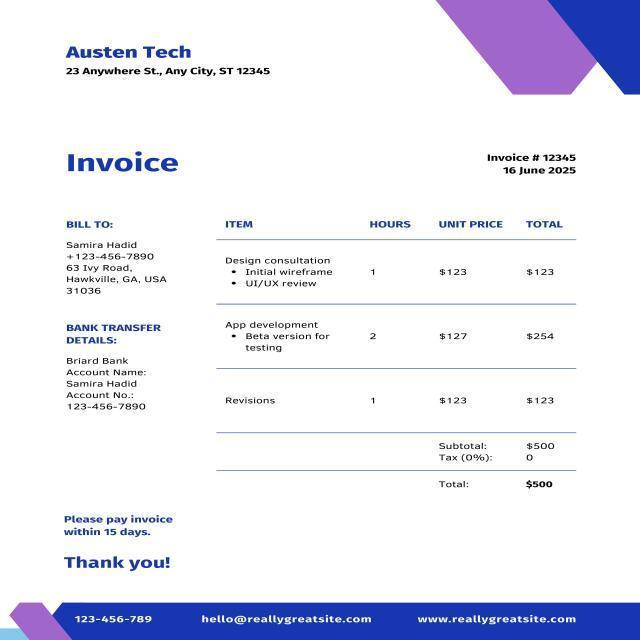ROI: (207, 211, 624, 419), (51, 32, 288, 93), (56, 316, 184, 427), (431, 431, 580, 522), (51, 214, 173, 304), (476, 127, 597, 188), (414, 604, 588, 635), (64, 147, 191, 188), (201, 604, 379, 633), (61, 548, 184, 588), (57, 506, 189, 543), (61, 604, 171, 629)
